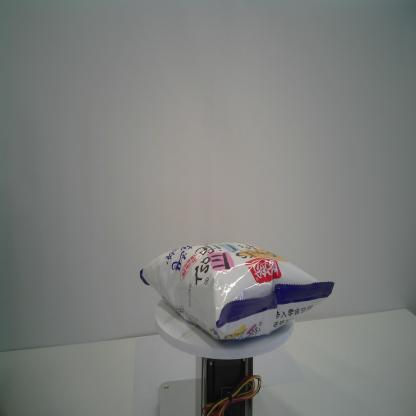Puffed Food: (139, 240, 335, 342)
